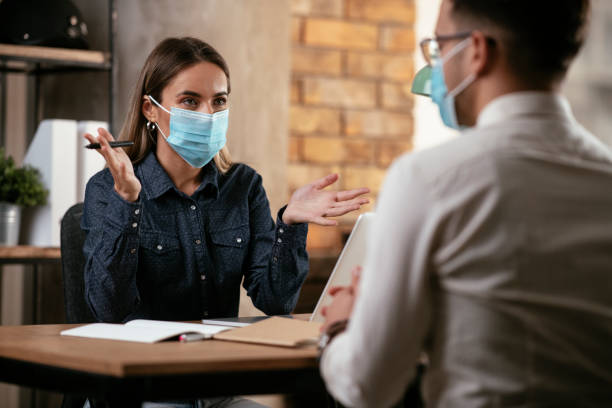with mask: (138, 54, 232, 169), (421, 1, 494, 127)
